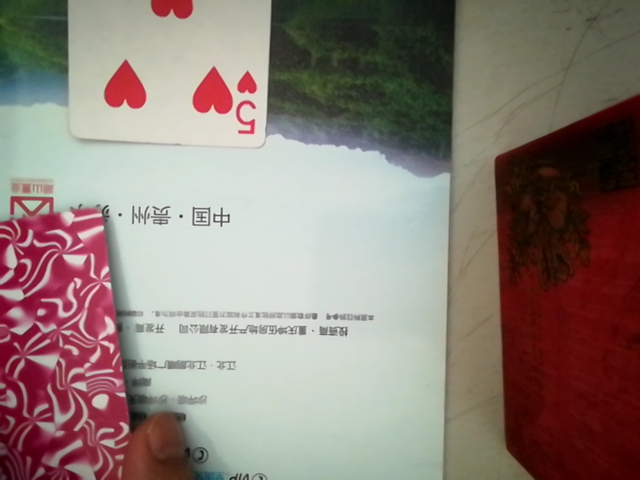hx 5: (55, 0, 271, 149)
